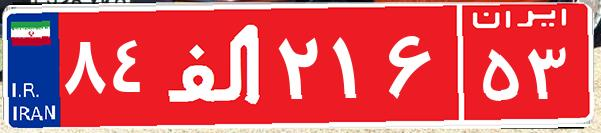1: (330, 28, 385, 110)
2: (273, 28, 330, 110)
3: (525, 38, 570, 115)
4: (110, 28, 158, 105)
5: (475, 38, 525, 113)
6: (385, 28, 445, 110)
8: (57, 26, 110, 107)
الف: (158, 15, 273, 115)
